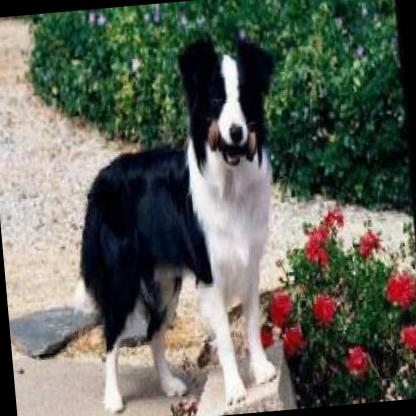Border_collie: (56, 20, 316, 416)
